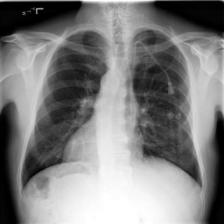normal: (18, 26, 206, 194)
